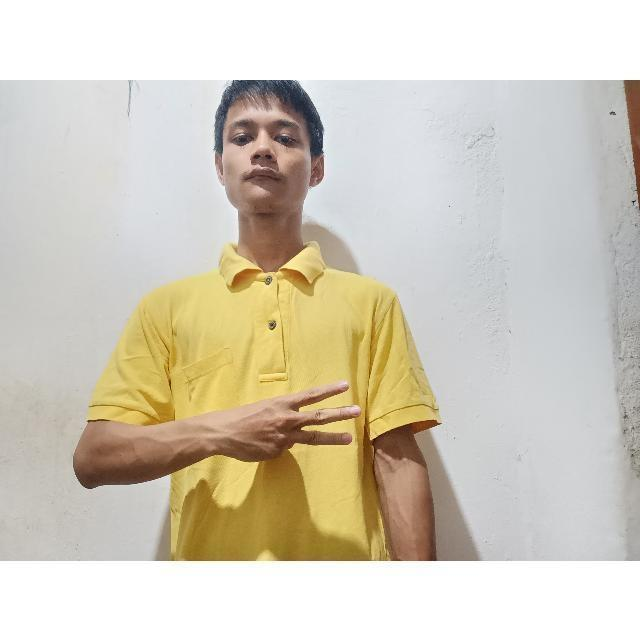E: (210, 376, 364, 474)
